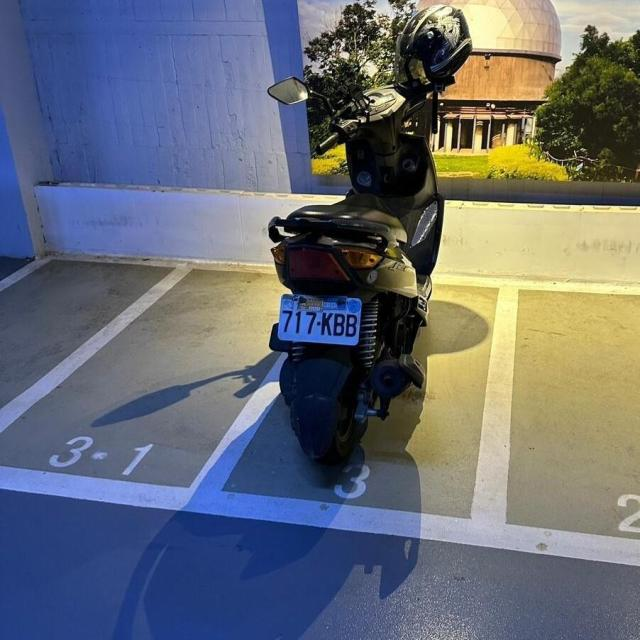W: (272, 290, 369, 353)
